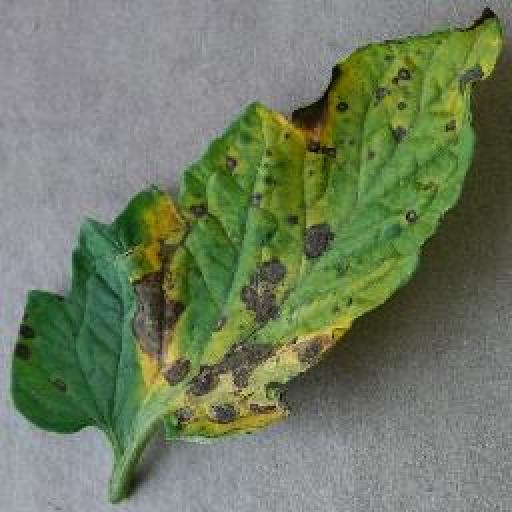disease_tomato: (12, 9, 504, 443)
